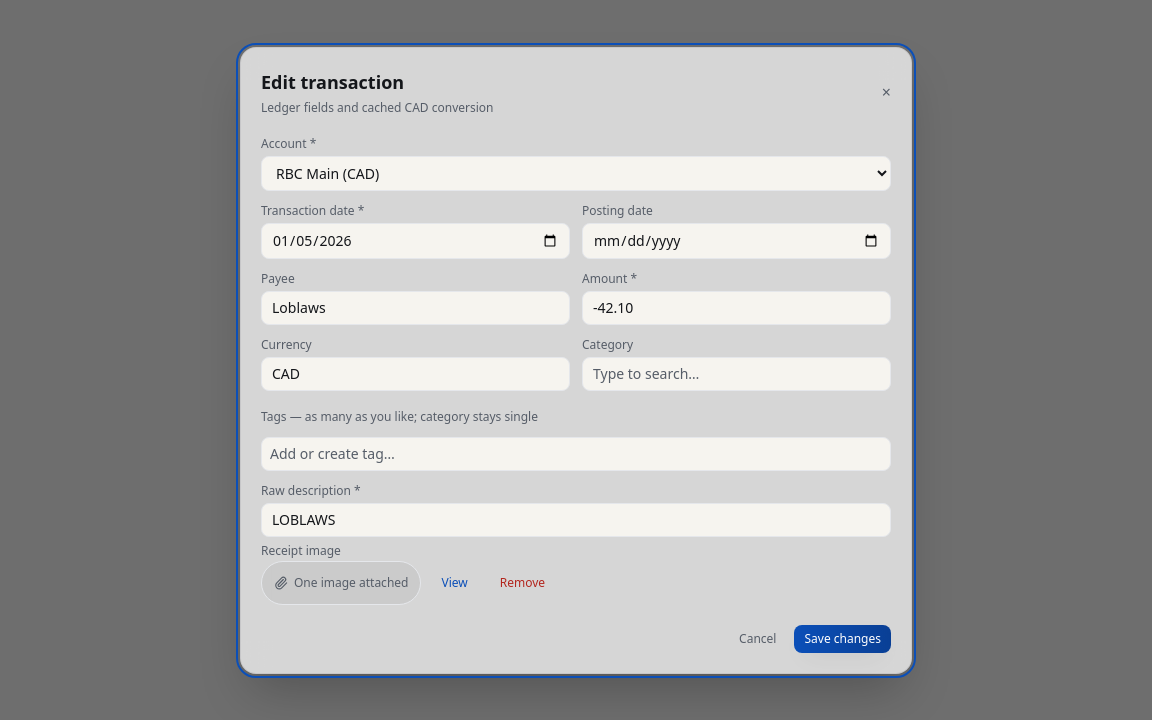
Scenario: M108 P4 — the editor's image field › tells the list to re-read its chip after an attach or a Remove
Click the button "Remove" at (522, 582), box [488,560,557,604]
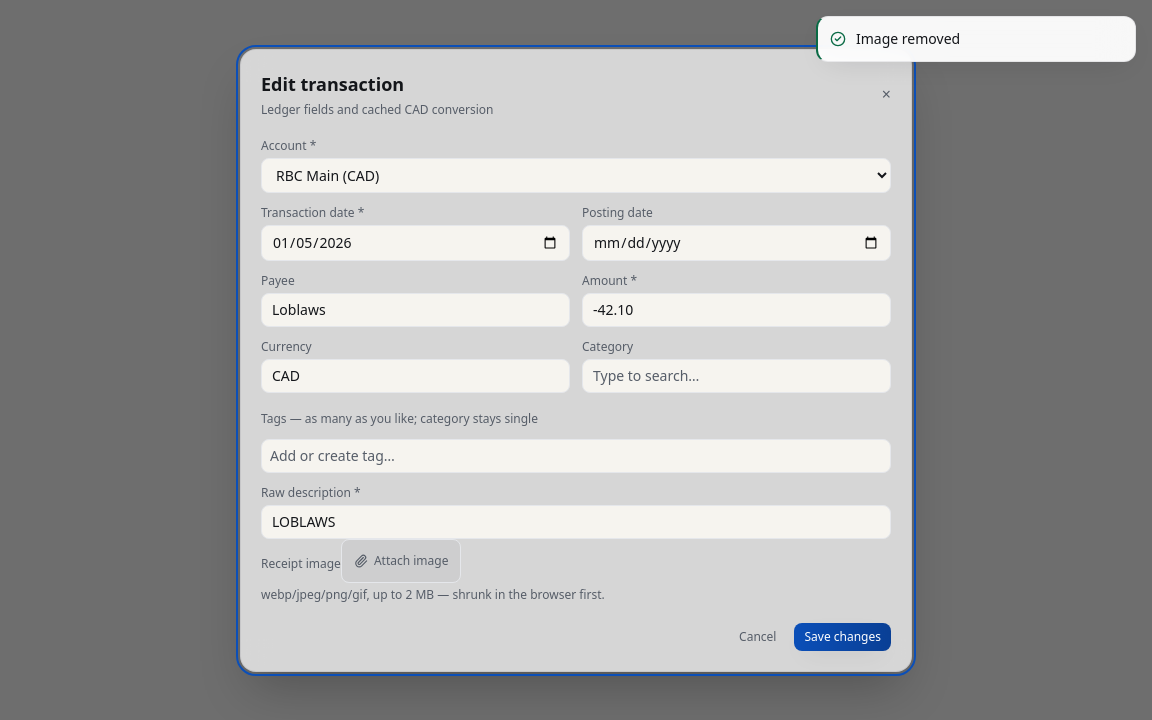
Expected: the button "Attach image" is shown, [341,538,462,582]
